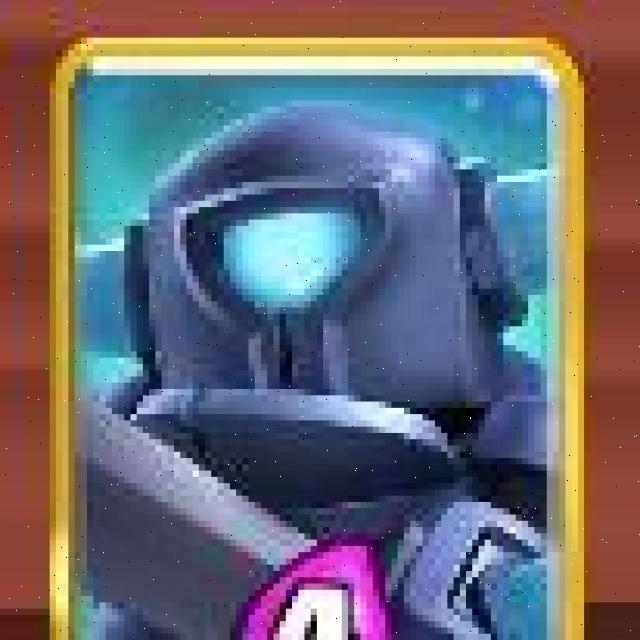Mini_Pekka: (50, 37, 584, 640)
